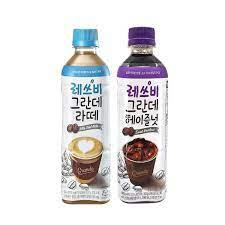letsbe_grande_hazelnut: (116, 24, 169, 205)
